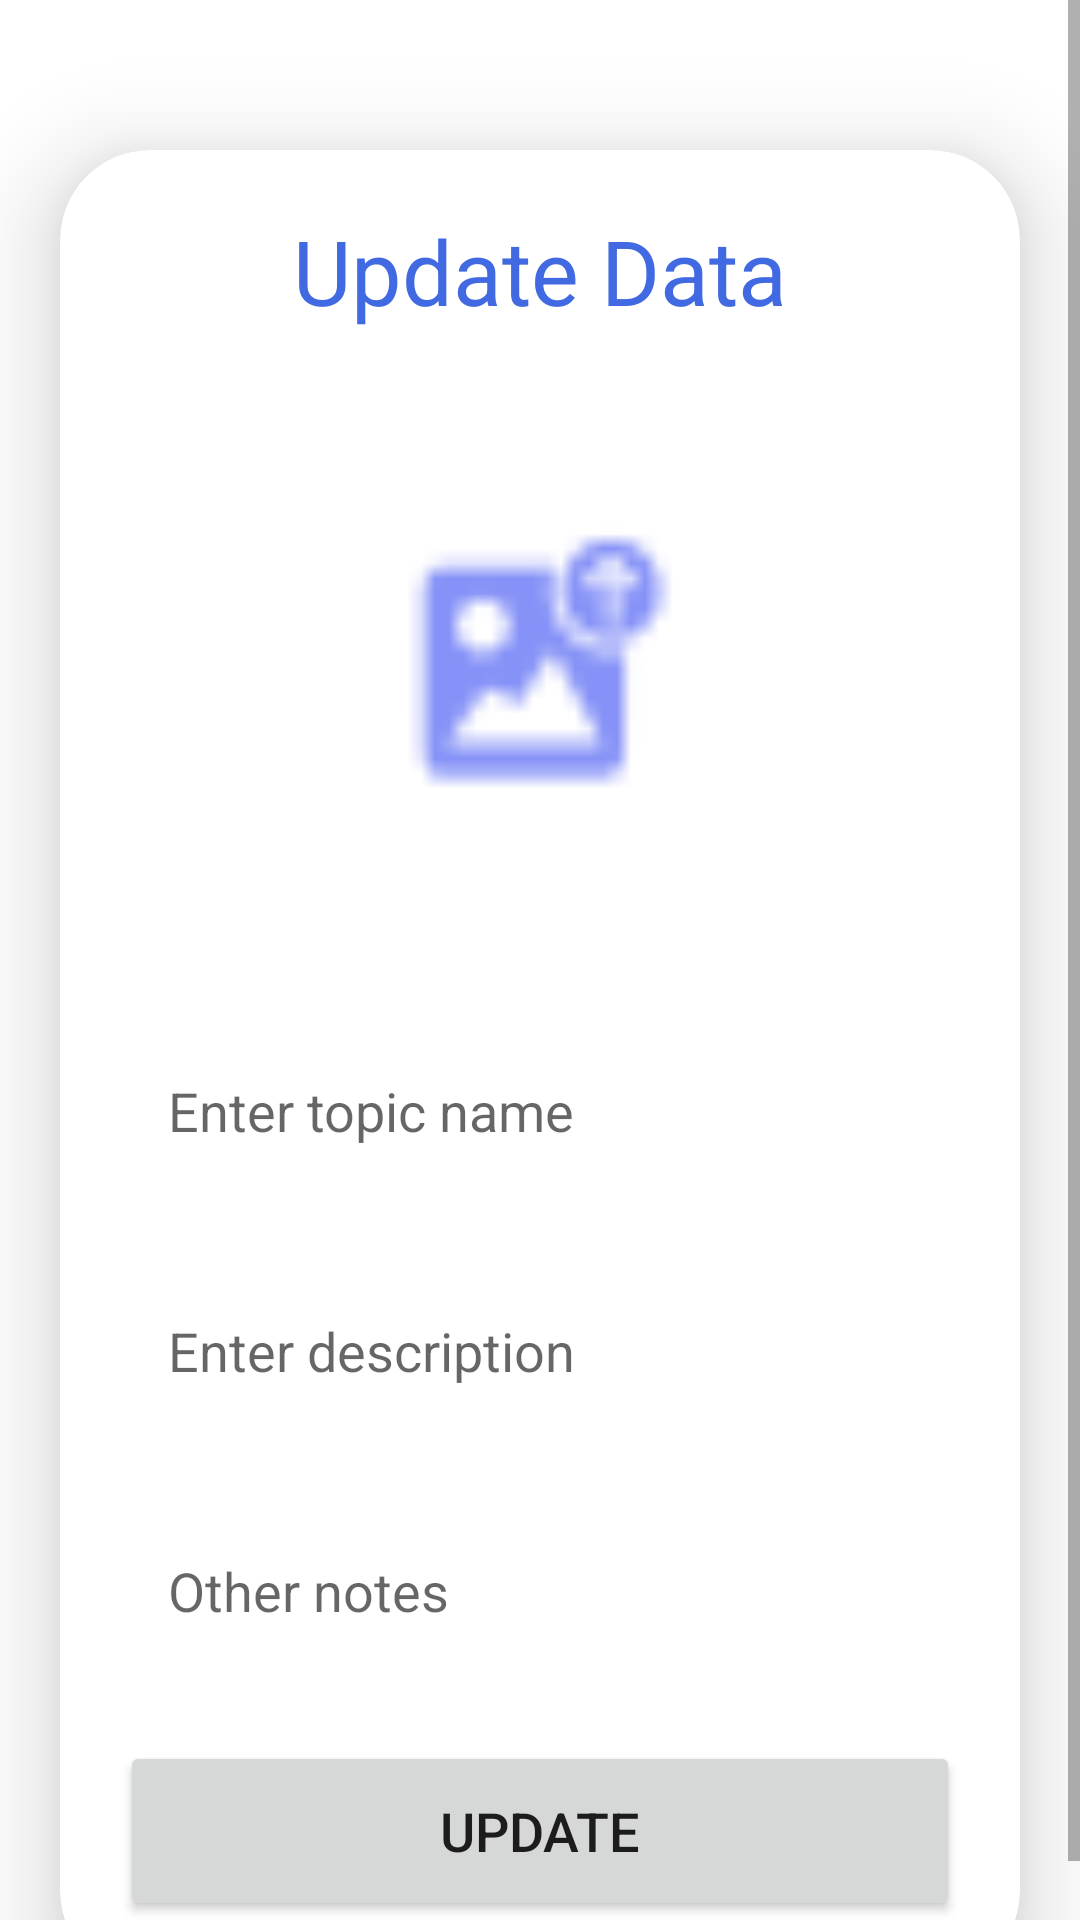

Icons on this 1080 x 1920 Android screen, each with the point to tap as [x,y]:
uploading: [542,660]
